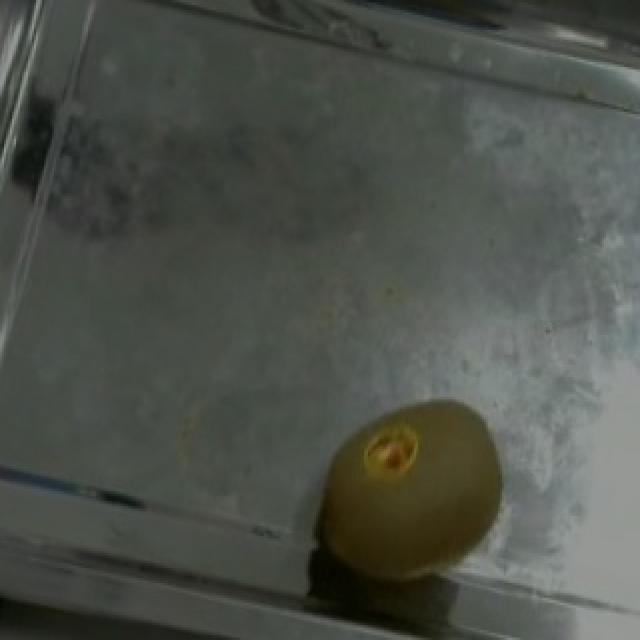Fruit: (280, 372, 534, 640)
